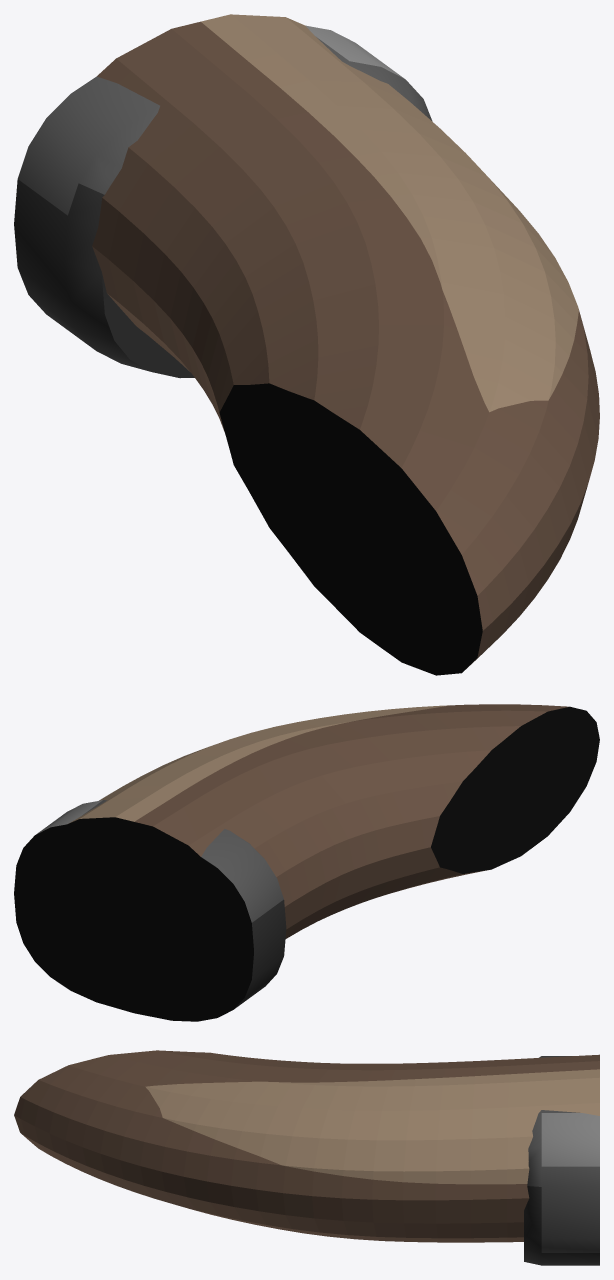
The model's file is tusk_boss_132.glb.
3 views of the same model, one above another, from view 1: azimuth 30°, elevation 25°; view 2: azimuth 150°, elevation 25°; view 3: azimuth 270°, elevation 25° (orthographic). The views are drawn at different scales.
Visible parts, largest first — view 1: tusk_boss_132; view 2: tusk_boss_132; view 3: tusk_boss_132.
Part boxes in pixels (x1,y1,x2,y2): tusk_boss_132: (14,14,599,675); tusk_boss_132: (14,704,599,1021); tusk_boss_132: (14,1050,599,1265).
Size of the model in its own units: 9.4 by 6.55 by 20.06.
